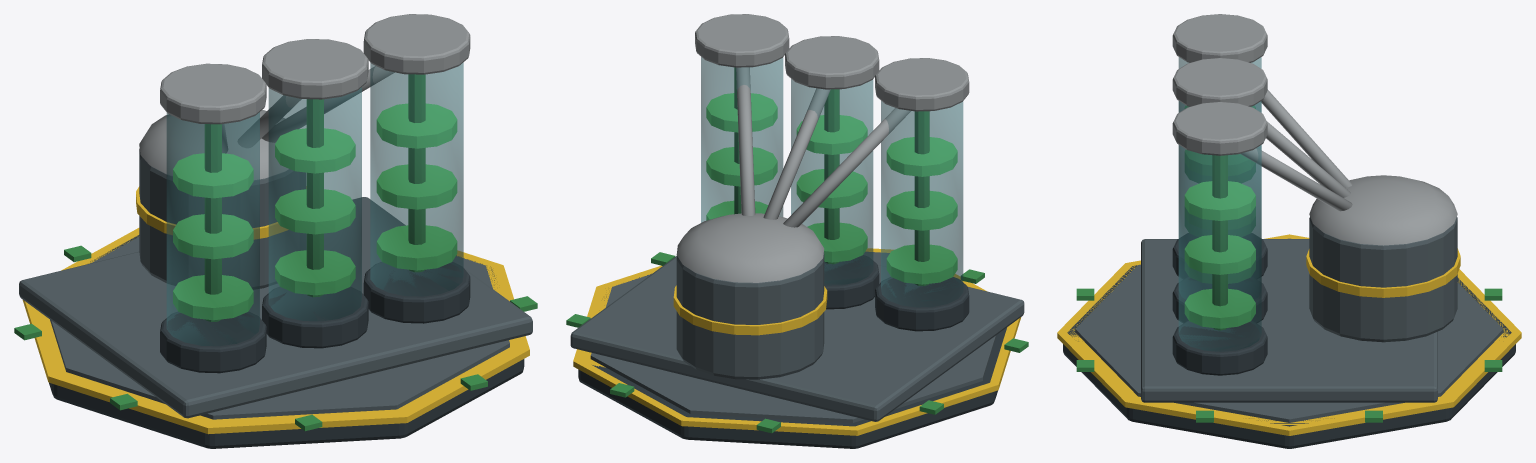
Rendered from hydroponic_farm.fbx.
3 renders of one model, left to right at view 1: azimuth 30°, elevation 25°; view 2: azimuth 150°, elevation 25°; view 3: azimuth 270°, elevation 25°, orthographic. The views are drawn at different scales.
Visible parts, largest first — view 1: hydroponic_farm, ANIM_pulse_0.4__col0_light, ANIM_pulse_0.55__col1_light, ANIM_pulse_0.7__col2_light; view 2: hydroponic_farm, ANIM_pulse_0.4__col0_light, ANIM_pulse_0.55__col1_light, ANIM_pulse_0.7__col2_light; view 3: hydroponic_farm, ANIM_pulse_0.7__col2_light.
Part boxes in pixels (<box>): hydroponic_farm: <box>14,14,537,448</box>; ANIM_pulse_0.4__col0_light: <box>204,124,221,321</box>; ANIM_pulse_0.55__col1_light: <box>306,99,323,297</box>; ANIM_pulse_0.7__col2_light: <box>408,74,425,272</box>; hydroponic_farm: <box>566,14,1028,448</box>; ANIM_pulse_0.4__col0_light: <box>914,111,929,286</box>; ANIM_pulse_0.55__col1_light: <box>824,89,839,264</box>; ANIM_pulse_0.7__col2_light: <box>734,67,741,213</box>; hydroponic_farm: <box>1057,14,1521,448</box>; ANIM_pulse_0.7__col2_light: <box>1212,155,1227,330</box>.
Bounding box in the file's own units: 4.69 × 3.1 × 4.69.
